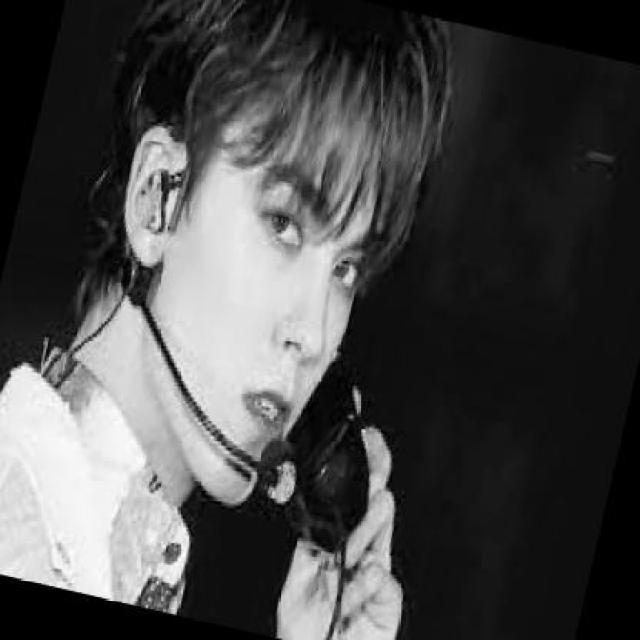earphone: (143, 172, 191, 234)
